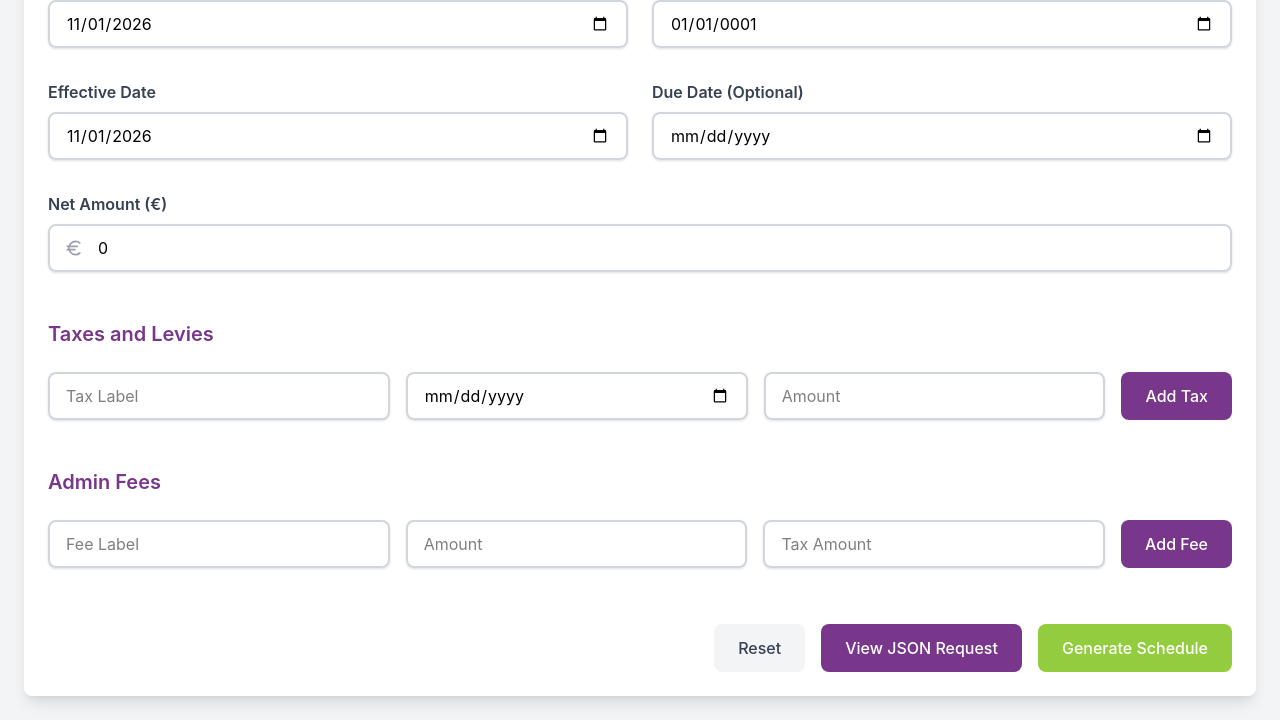
Test: NewSchedule › shows a configuration error when the API endpoint is not set
(page scrolled)
Click the button "Generate Schedule" at (1135, 648), box [1038, 624, 1232, 672]
(page scrolled)
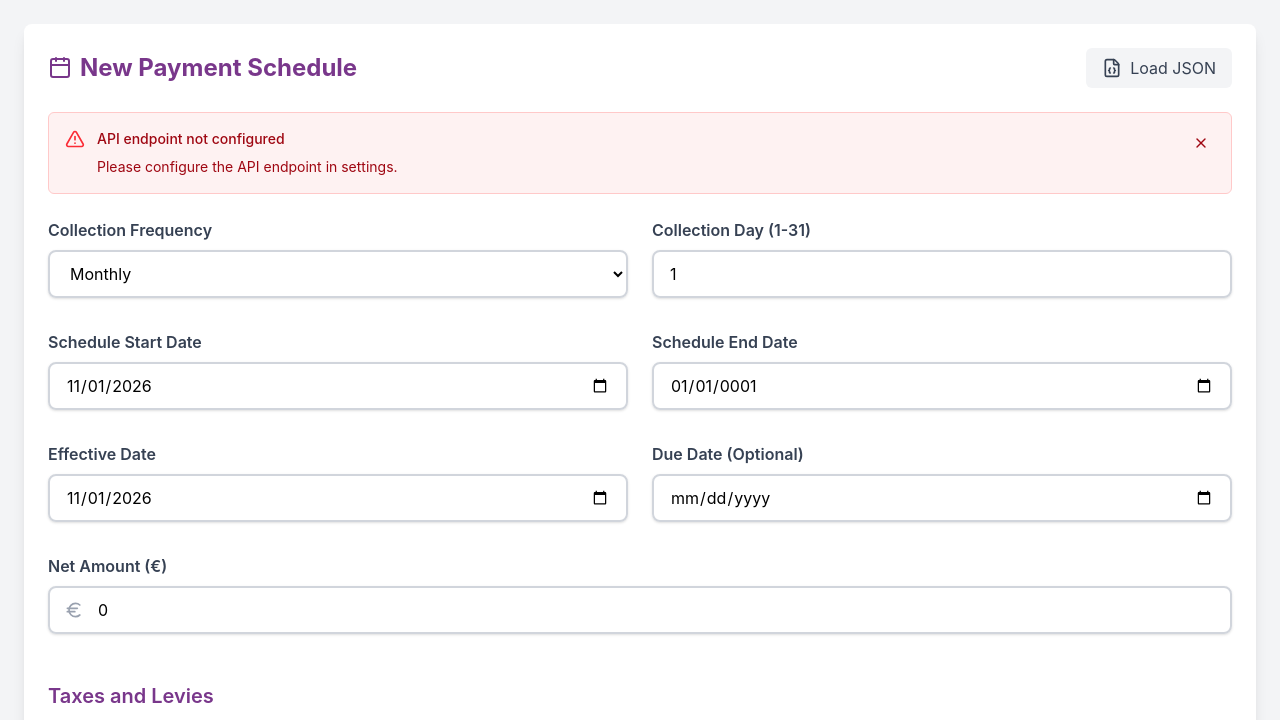
Result: the heading "API endpoint not configured" is shown at [97, 130, 285, 147]
